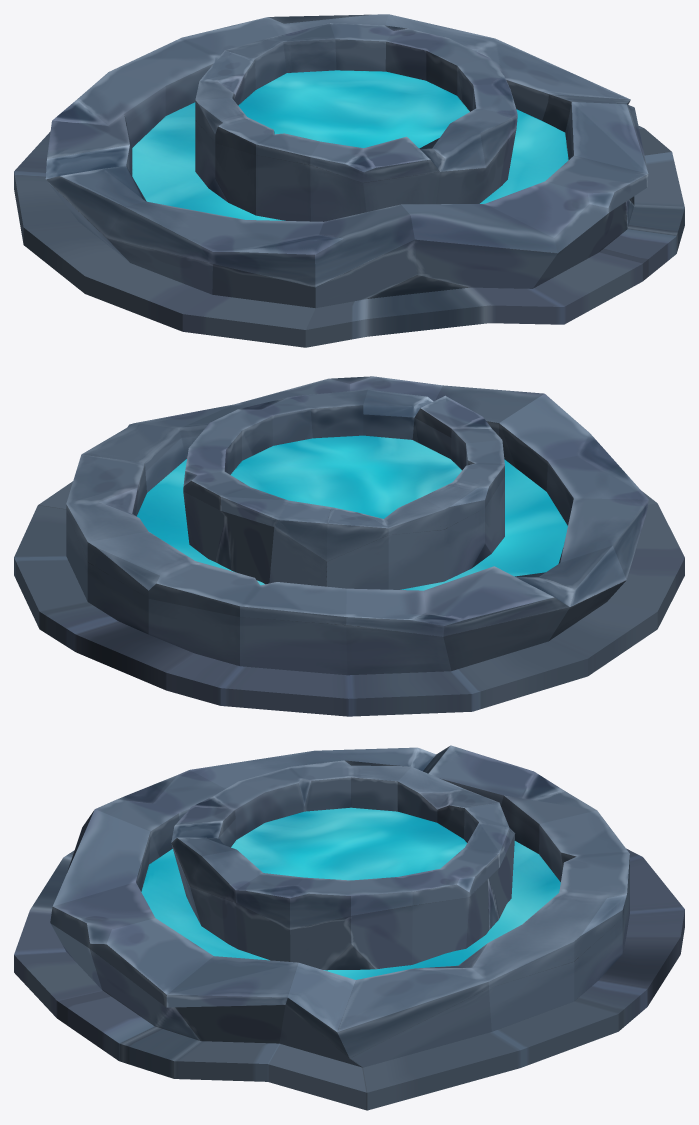
File: fountain.glb
3 renders of one model, top to bottom at view 1: azimuth 30°, elevation 25°; view 2: azimuth 150°, elevation 25°; view 3: azimuth 270°, elevation 25°, orthographic.
Parts seen in each view (by area): view 1: WaterChaft; view 2: WaterChaft; view 3: WaterChaft.
Part boxes in pixels (bbox=[...]): WaterChaft: bbox=[14, 14, 684, 347]; WaterChaft: bbox=[14, 376, 684, 716]; WaterChaft: bbox=[14, 745, 684, 1110].
Bounding box in the file's own units: 859 × 192 × 844.
Materials: 2 (2 with a texture image).
